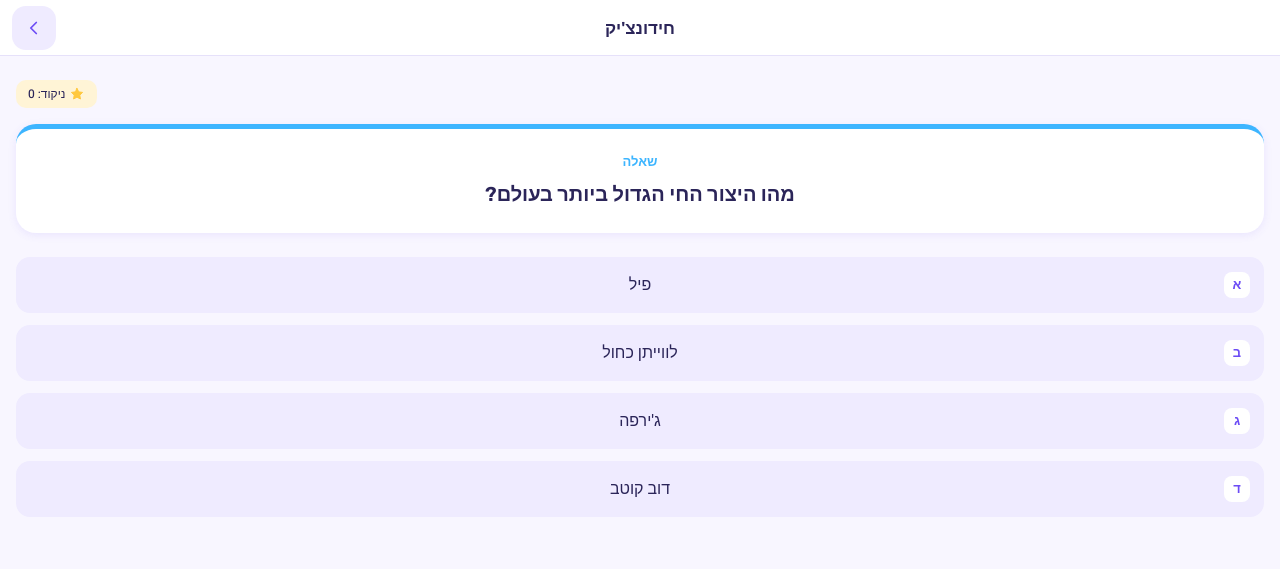
Scenario: answering a question › reveals the correct answer after a wrong answer
Click the button "ד דוב קוטב": click(640, 489) [16, 461, 1264, 517]
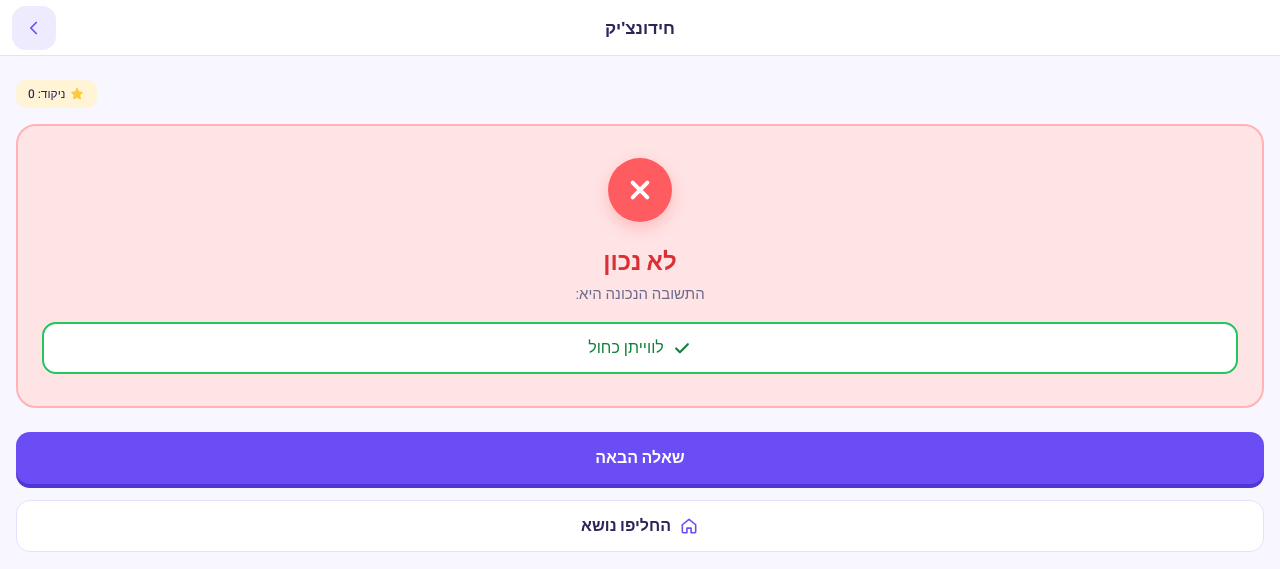
Check: the text "לווייתן כחול" is shown, box [588, 336, 664, 360]
Check: the heading "לא נכון" is shown, box [603, 246, 677, 278]
Check: the text "התשובה הנכונה היא:" is shown, box [575, 282, 705, 306]
